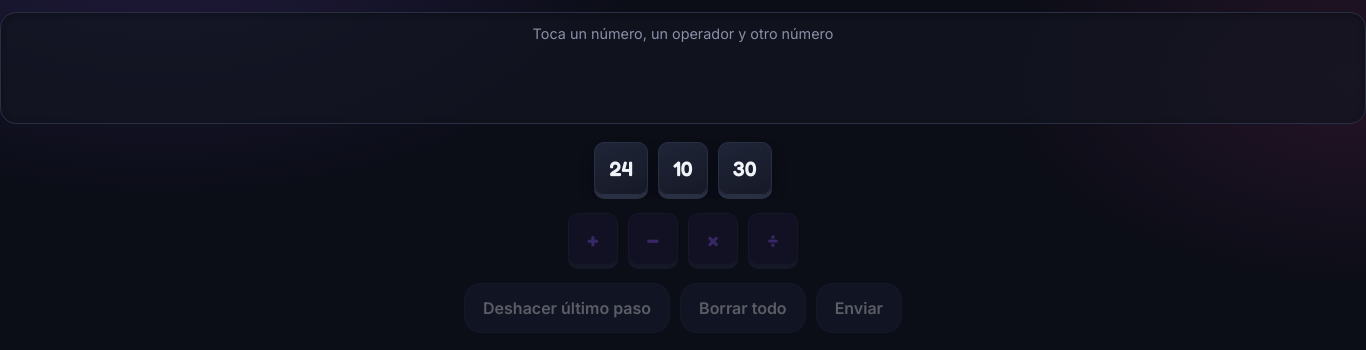
Test case: NumberBoard › tocar la ficha elegida como primer operando la deselecciona
The image size is (1366, 350).
Click the button "24": (621, 169) [594, 142, 648, 195]
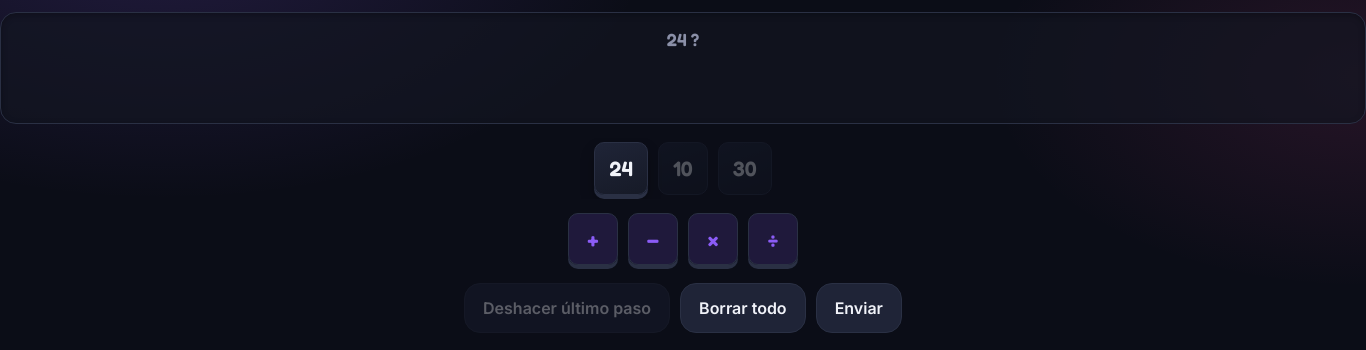
Expected: the element named "Tus operaciones" shows "24", [667, 29, 686, 50]
Click the button "24": (621, 169) [594, 142, 648, 195]
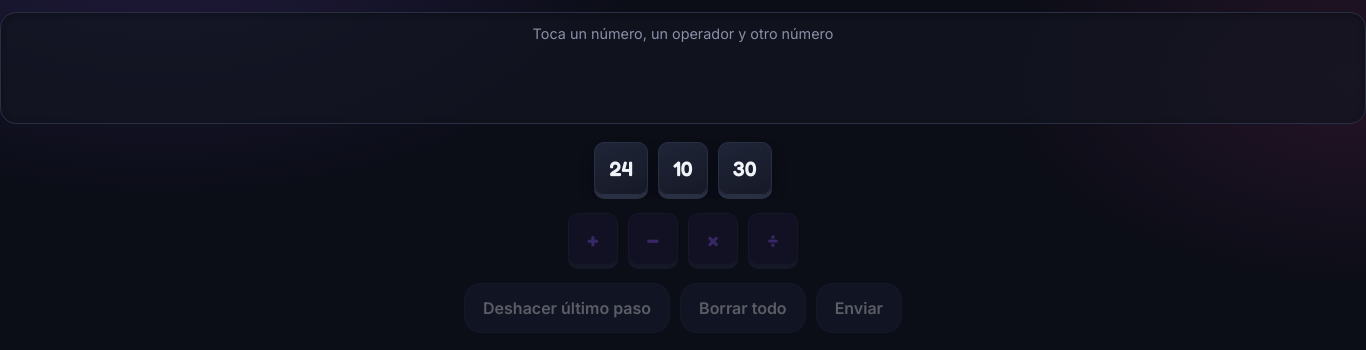
Expected: the element named "Tus operaciones" does not show "24", [0, 12, 1365, 124]
Expected: the button "10" is enabled, [658, 142, 708, 195]
